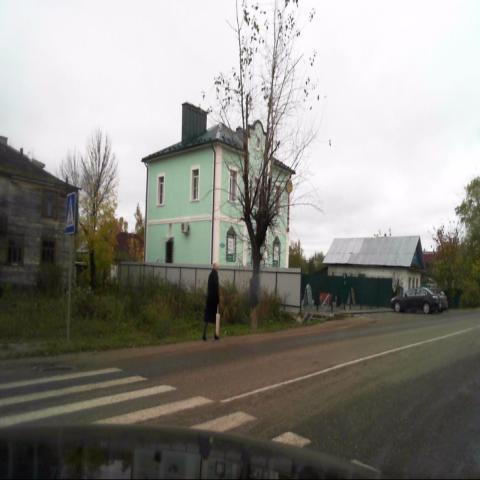5_19_1: (66, 193, 76, 233)
